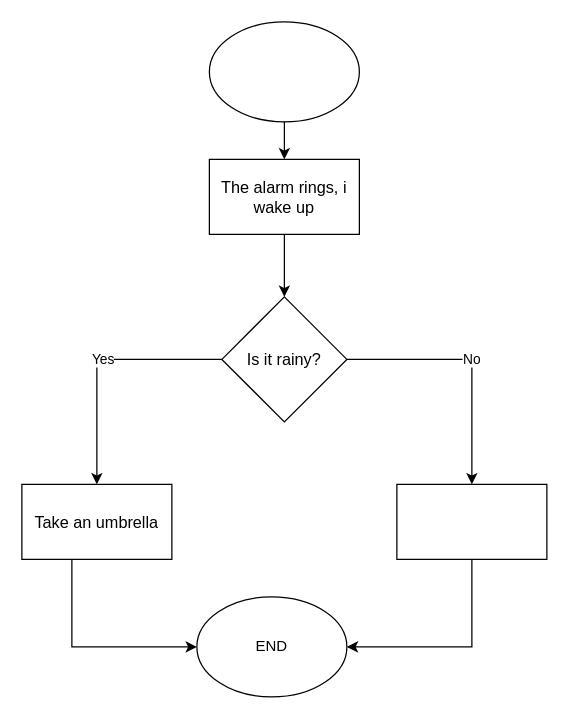
Image size: 569x719. Some labels were removed from this diagram. The centre of each missing label's shape, as x and y in pixels:
"Leave home directly" goes at [471,521].
"start" goes at [283,71].
